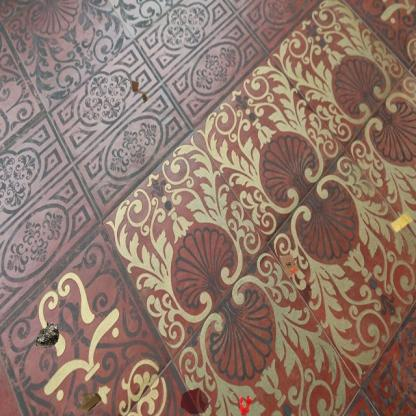dirty: (34, 320, 61, 350), (124, 77, 150, 105), (389, 209, 415, 235), (278, 253, 302, 280), (77, 391, 103, 415)
liquid: (179, 387, 210, 415), (238, 392, 253, 415)
